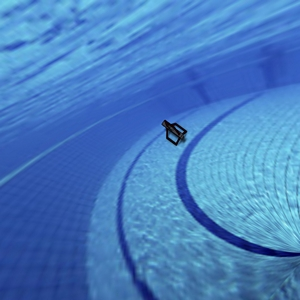submarine: (149, 98, 198, 163)
